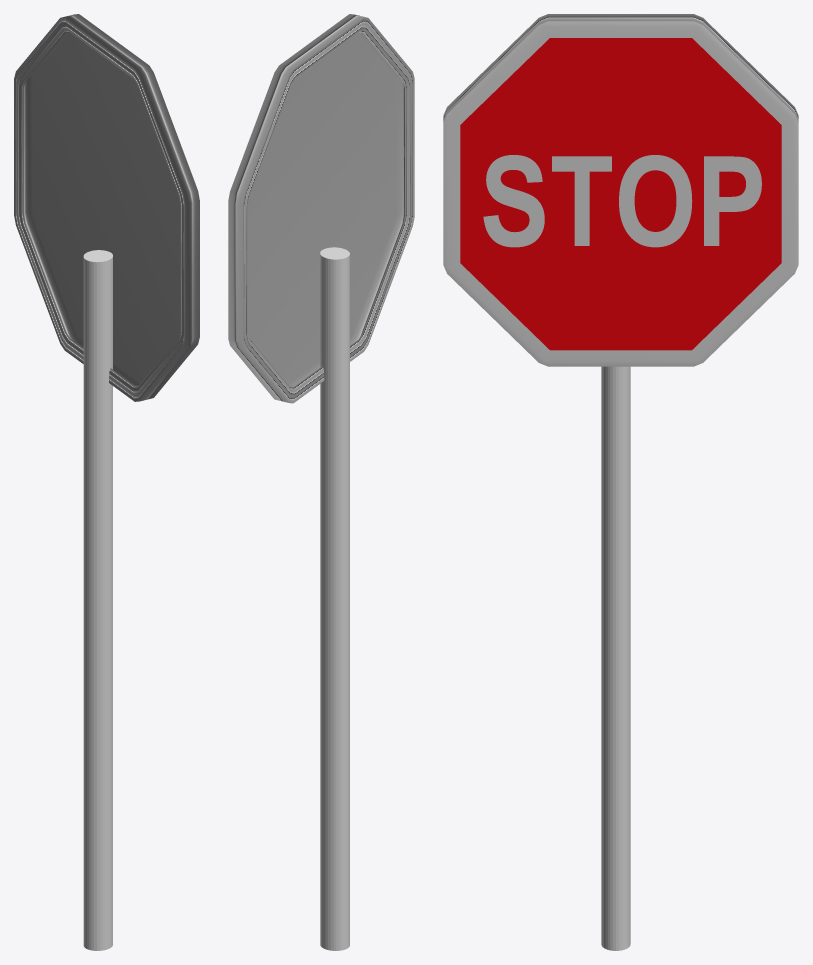
The model's file is cube.256_lev3.glb.
3 renders of one model, left to right at view 1: azimuth 30°, elevation 25°; view 2: azimuth 150°, elevation 25°; view 3: azimuth 270°, elevation 25°, orthographic. The views are drawn at different scales.
Parts seen in each view (by area): view 1: cube.256_lev3; view 2: cube.256_lev3; view 3: cube.256_lev3.
Boxes of the visible parts, x1,y1,x2,y2 form: cube.256_lev3: (14, 14, 199, 950); cube.256_lev3: (228, 14, 414, 950); cube.256_lev3: (443, 14, 798, 950).
Bounding box in the file's own units: 0.0966 × 2.5 × 0.8656.
